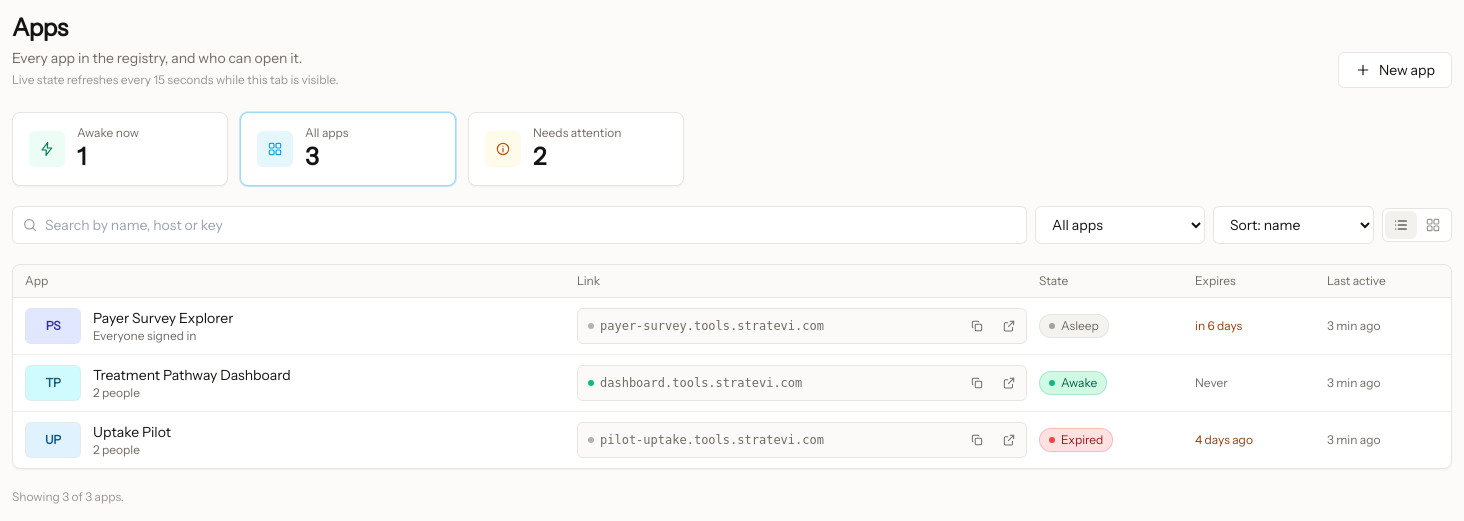
Test case: AdminAppsPage › filters the list when a stat tile is pressed
The image size is (1464, 521).
What coordinates should you click on to do the following:
click the button "Awake now 1"
I would click on:
 (120, 149)
Its box is top-left (12, 112), bottom-right (228, 186).
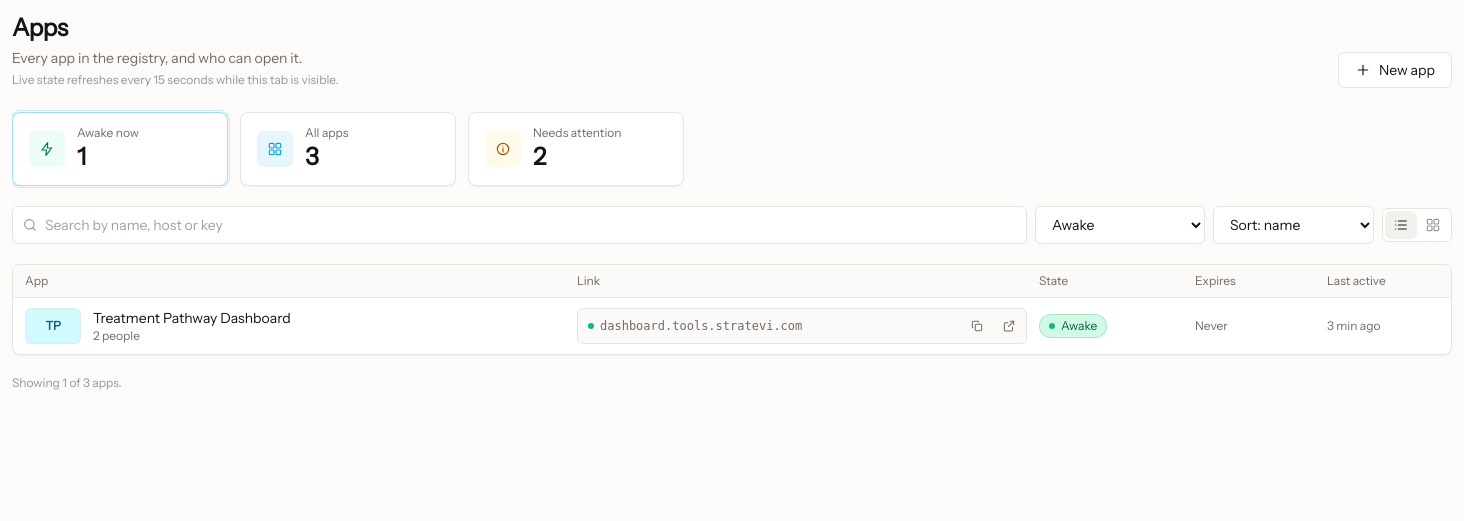
expect the link "Treatment Pathway Dashboard" is shown: met, box top-left (93, 308), bottom-right (291, 328)
expect the link "Uptake Pilot" is gone: met
expect the text "Showing 1 of 3 apps." is shown: met, box top-left (12, 375), bottom-right (122, 390)
